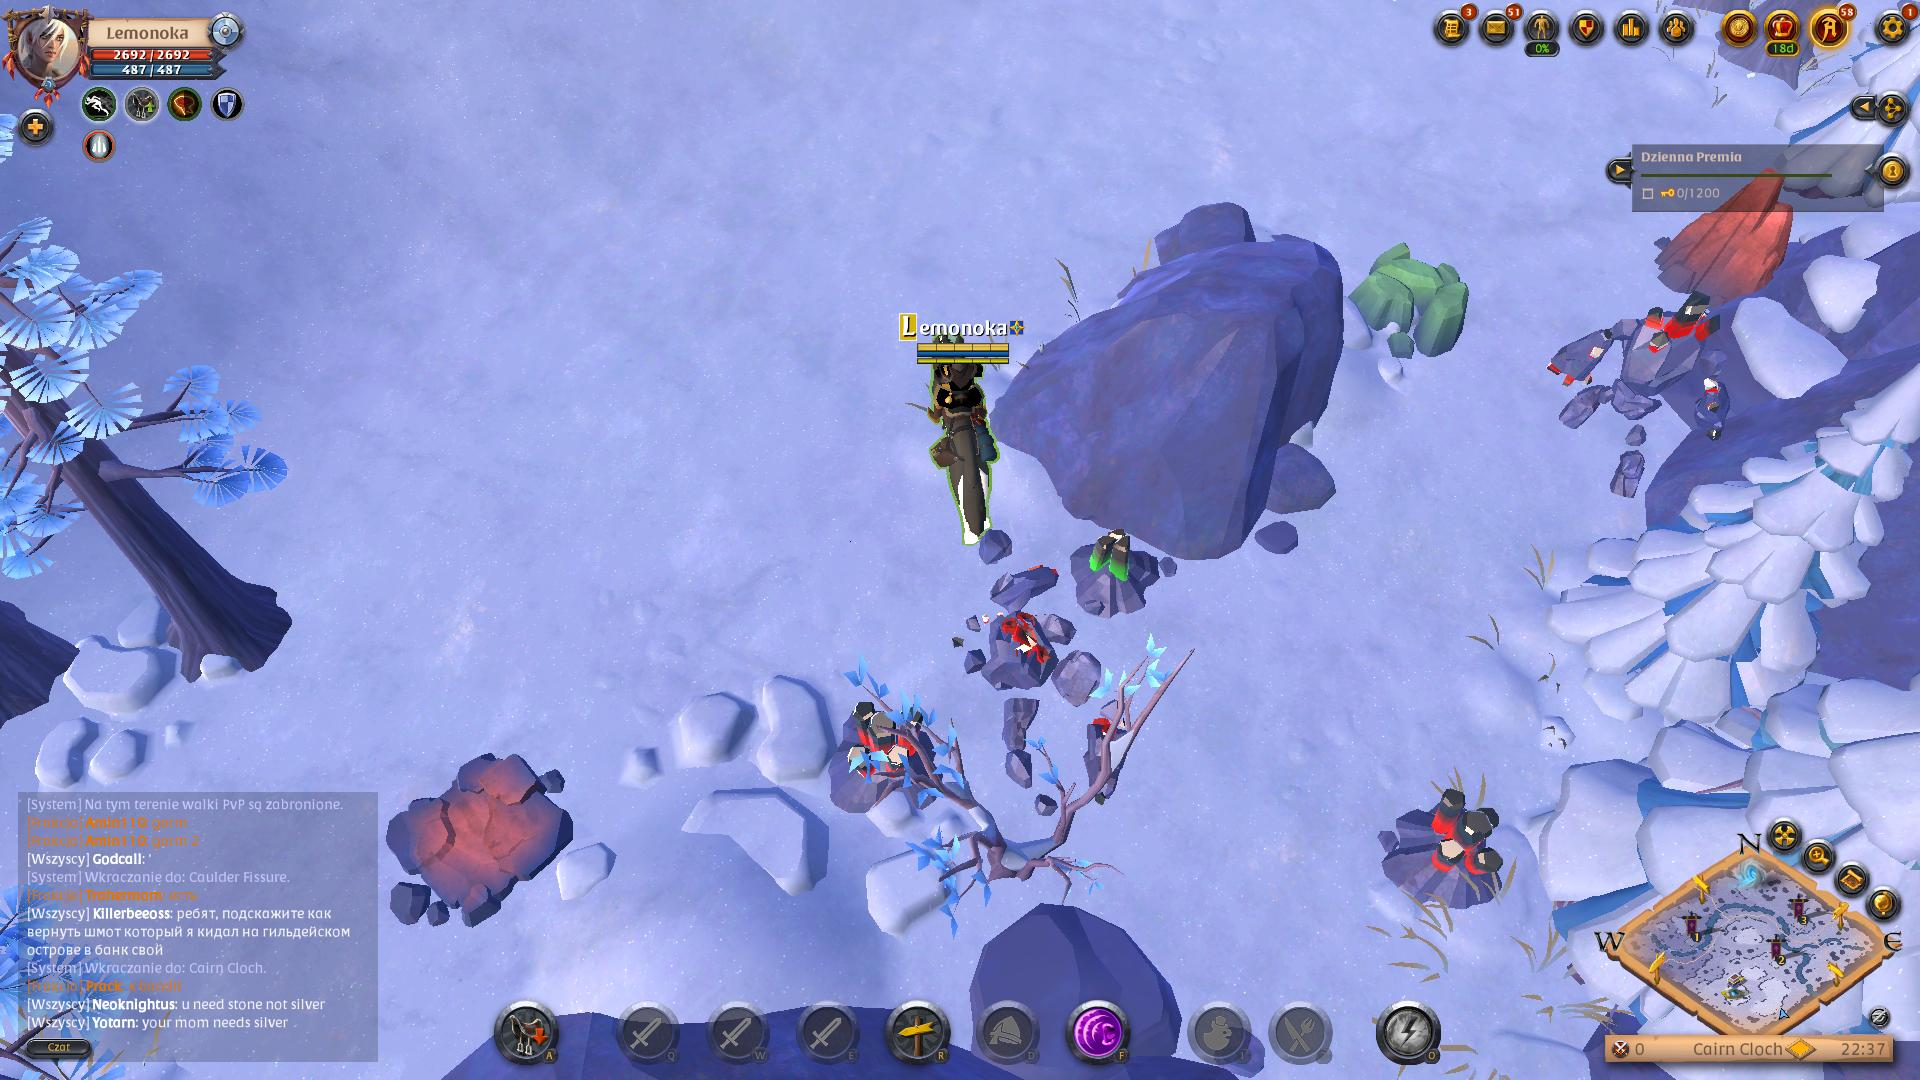ore tier 3: (1065, 525, 1162, 618)
ore tier 5: (1377, 785, 1510, 909)
rock tier 3: (1352, 233, 1476, 367)
